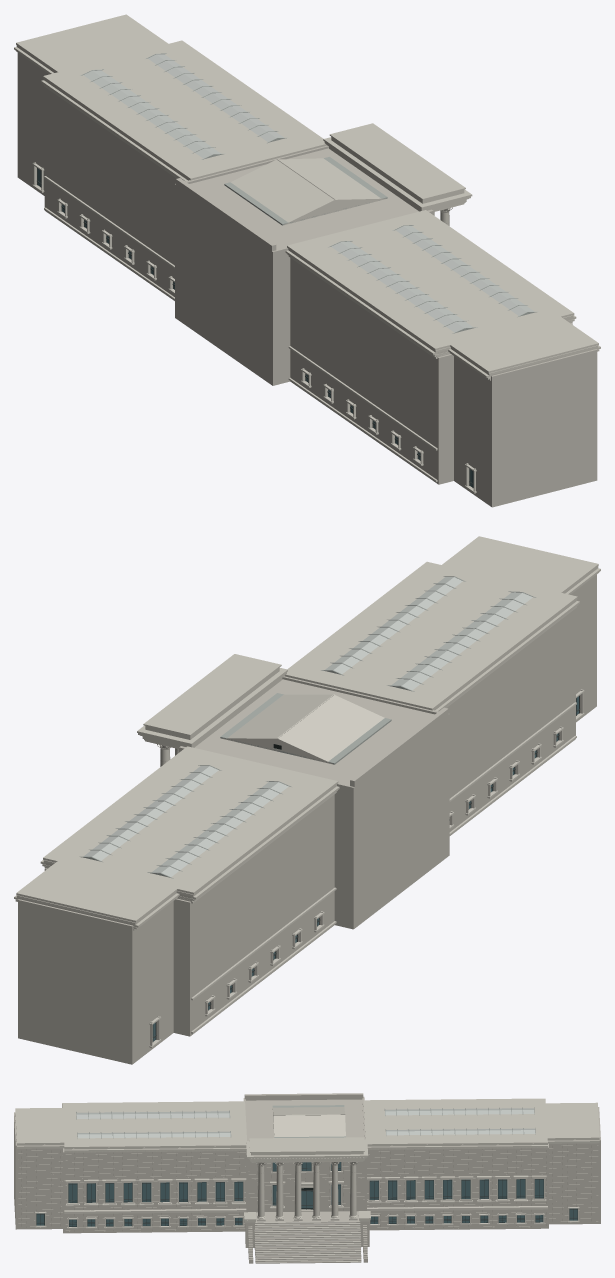
File: bespoke-mmca-deoksugung.glb
The picture shows the model from 3 angles, top to bottom: view 1: azimuth 30°, elevation 25°; view 2: azimuth 150°, elevation 25°; view 3: azimuth 270°, elevation 25°; orthographic projection. The views are drawn at different scales.
Parts seen in each view (by area): view 1: 09_unverified_rear_and_terminal_service_faces003, 06_flat_entablature_modillions_and_parapets003_1, 01_named_source_footprint_mass_and_floor_bands003, 08_provisional_low_rooflights003_3, 08_provisional_low_rooflights003, 08_provisional_low_rooflights003_2, 09_unverified_rear_and_terminal_service_faces003_1, 03_deep_reveals_stone_architraves_sashes003; view 2: 09_unverified_rear_and_terminal_service_faces003, 06_flat_entablature_modillions_and_parapets003_1, 01_named_source_footprint_mass_and_floor_bands003, 08_provisional_low_rooflights003_3, 08_provisional_low_rooflights003, 08_provisional_low_rooflights003_2, 09_unverified_rear_and_terminal_service_faces003_1, 03_deep_reveals_stone_architraves_sashes003; view 3: 02_east_cutstone_courses_and_openings003, 06_flat_entablature_modillions_and_parapets003_1, 09_unverified_rear_and_terminal_service_faces003, 03_deep_reveals_stone_architraves_sashes003_3, 07_twenty_three_steps_stone_cheeks003, 01_named_source_footprint_mass_and_floor_bands003, 03_deep_reveals_stone_architraves_sashes003, 08_provisional_low_rooflights003_3, 07_twenty_three_steps_stone_cheeks003_2, 03_deep_reveals_stone_architraves_sashes003_2, 04_six_freestanding_Corinthian_columns003_2, 08_provisional_low_rooflights003 (+8 smaller).
Part boxes in pixels (x1,y1,x2,y2): 09_unverified_rear_and_terminal_service_faces003: (17, 53, 597, 507); 06_flat_entablature_modillions_and_parapets003_1: (14, 14, 600, 380); 01_named_source_footprint_mass_and_floor_bands003: (18, 87, 590, 506); 08_provisional_low_rooflights003_3: (83, 54, 534, 332); 08_provisional_low_rooflights003: (230, 158, 386, 224); 08_provisional_low_rooflights003_2: (80, 53, 538, 333); 09_unverified_rear_and_terminal_service_faces003_1: (44, 85, 437, 482); 03_deep_reveals_stone_architraves_sashes003: (32, 162, 476, 493); 09_unverified_rear_and_terminal_service_faces003: (18, 574, 596, 1064); 06_flat_entablature_modillions_and_parapets003_1: (14, 536, 600, 930); 01_named_source_footprint_mass_and_floor_bands003: (19, 608, 595, 1063); 08_provisional_low_rooflights003_3: (83, 577, 532, 876); 08_provisional_low_rooflights003: (221, 694, 384, 764); 08_provisional_low_rooflights003_2: (79, 576, 536, 878); 09_unverified_rear_and_terminal_service_faces003_1: (191, 606, 576, 1033); 03_deep_reveals_stone_architraves_sashes003: (149, 689, 584, 1048); 02_east_cutstone_courses_and_openings003: (65, 1148, 546, 1231); 06_flat_entablature_modillions_and_parapets003_1: (15, 1098, 599, 1161); 09_unverified_rear_and_terminal_service_faces003: (14, 1093, 600, 1229); 03_deep_reveals_stone_architraves_sashes003_3: (36, 1162, 577, 1226); 07_twenty_three_steps_stone_cheeks003: (245, 1211, 369, 1263); 01_named_source_footprint_mass_and_floor_bands003: (15, 1096, 599, 1233); 03_deep_reveals_stone_architraves_sashes003: (34, 1162, 579, 1228); 08_provisional_low_rooflights003_3: (76, 1108, 535, 1138); 07_twenty_three_steps_stone_cheeks003_2: (254, 1222, 361, 1262); 03_deep_reveals_stone_architraves_sashes003_2: (36, 1162, 577, 1226); 04_six_freestanding_Corinthian_columns003_2: (257, 1164, 357, 1219); 08_provisional_low_rooflights003: (272, 1107, 345, 1136).
Bounding box in the file's own units: 26.62 × 14.56 × 81.28.
